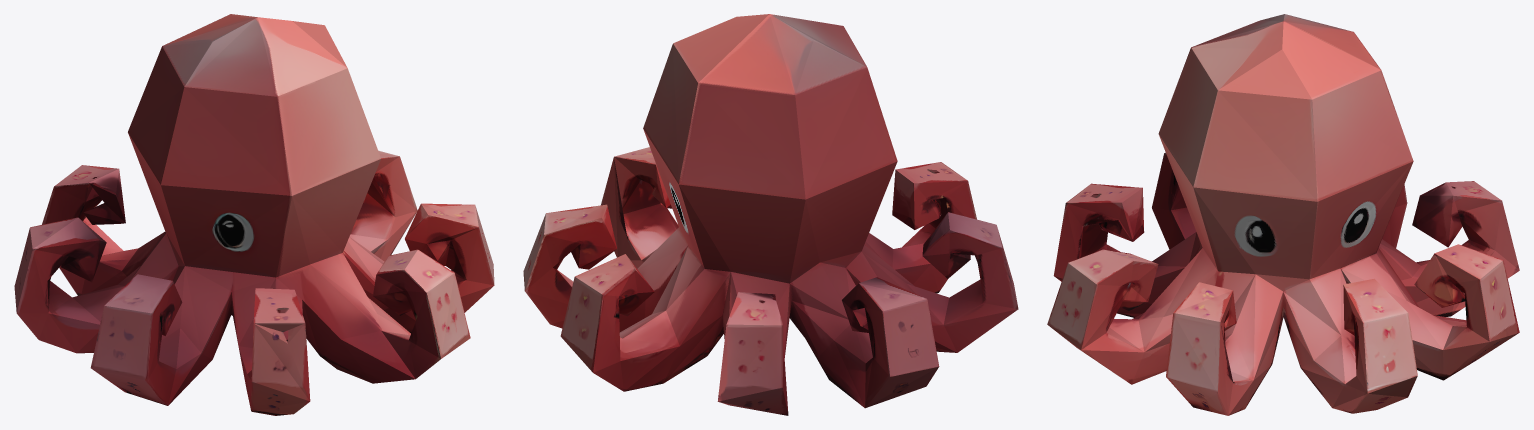
3 views of the same model, side by side, from view 1: azimuth 30°, elevation 25°; view 2: azimuth 150°, elevation 25°; view 3: azimuth 270°, elevation 25° (orthographic).
Visible parts, largest first — view 1: Figure; view 2: Figure; view 3: Figure.
Part boxes in pixels (x1,y1,x2,y2): Figure: (14, 14, 494, 415); Figure: (523, 14, 1018, 415); Figure: (1047, 14, 1519, 415).
Size of the model in its own units: 0.5233 by 0.3963 by 0.5227.
1 material, 1 textured.
